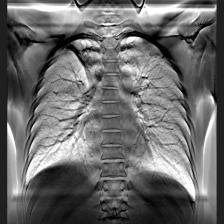tuberculosis: (16, 27, 204, 224)
